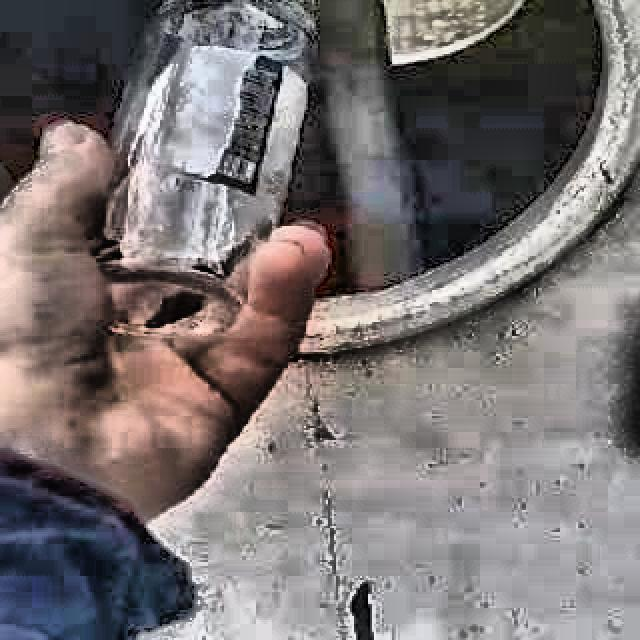glass: (101, 0, 315, 335)
